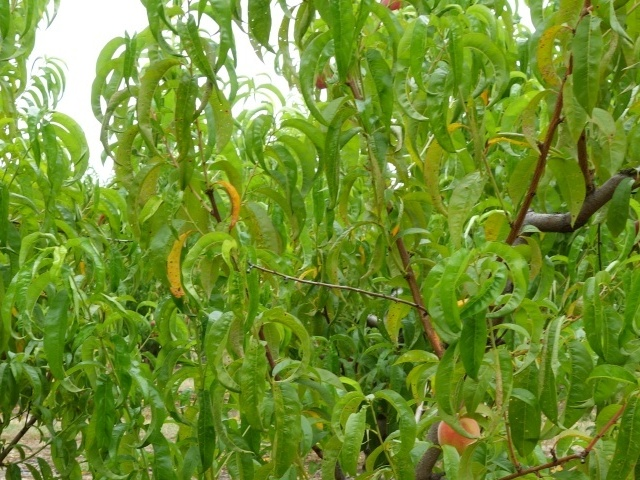peach: (432, 413, 482, 455), (306, 70, 334, 92), (376, 1, 404, 16)
